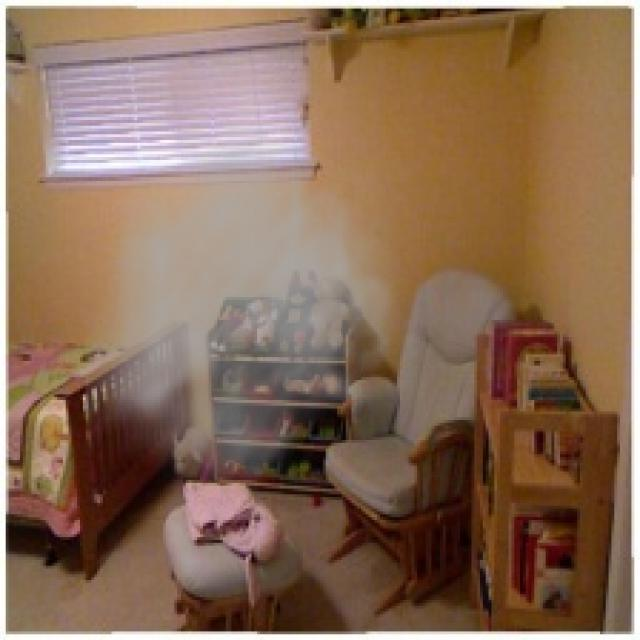smoke: (86, 109, 434, 512)
